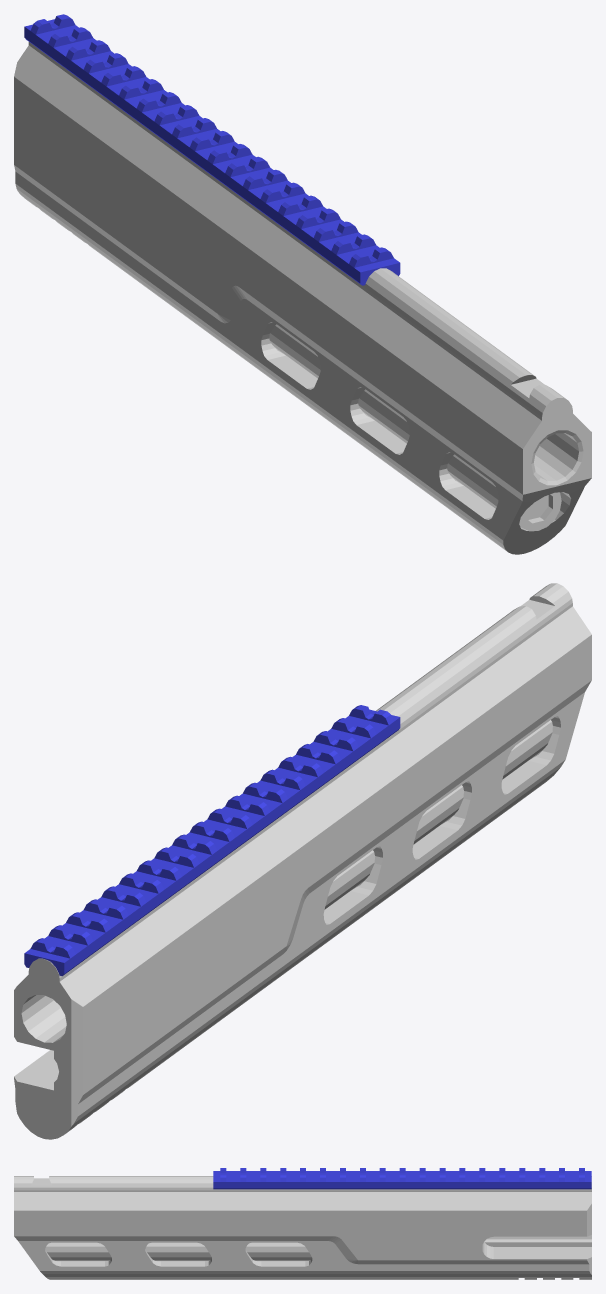
The model's file is SM_LPAMG_RC425_Barrel_Extended.fbx.
The picture shows the model from 3 angles, top to bottom: view 1: azimuth 30°, elevation 25°; view 2: azimuth 150°, elevation 25°; view 3: azimuth 270°, elevation 25°; orthographic projection. The views are drawn at different scales.
Visible parts, largest first — view 1: SM_LPAMG_RC425_Barrel_Extended; view 2: SM_LPAMG_RC425_Barrel_Extended; view 3: SM_LPAMG_RC425_Barrel_Extended.
Part boxes in pixels (x1,y1,x2,y2): SM_LPAMG_RC425_Barrel_Extended: [14, 14, 591, 554]; SM_LPAMG_RC425_Barrel_Extended: [14, 583, 591, 1139]; SM_LPAMG_RC425_Barrel_Extended: [14, 1168, 591, 1279].
Size of the model in its own units: 2.01 by 5.28 by 25.92.
